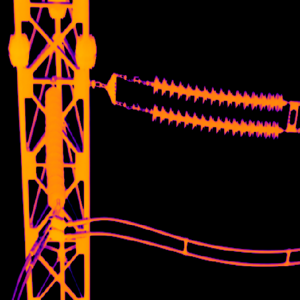insulator: (150, 103, 281, 136), (149, 76, 286, 106)
